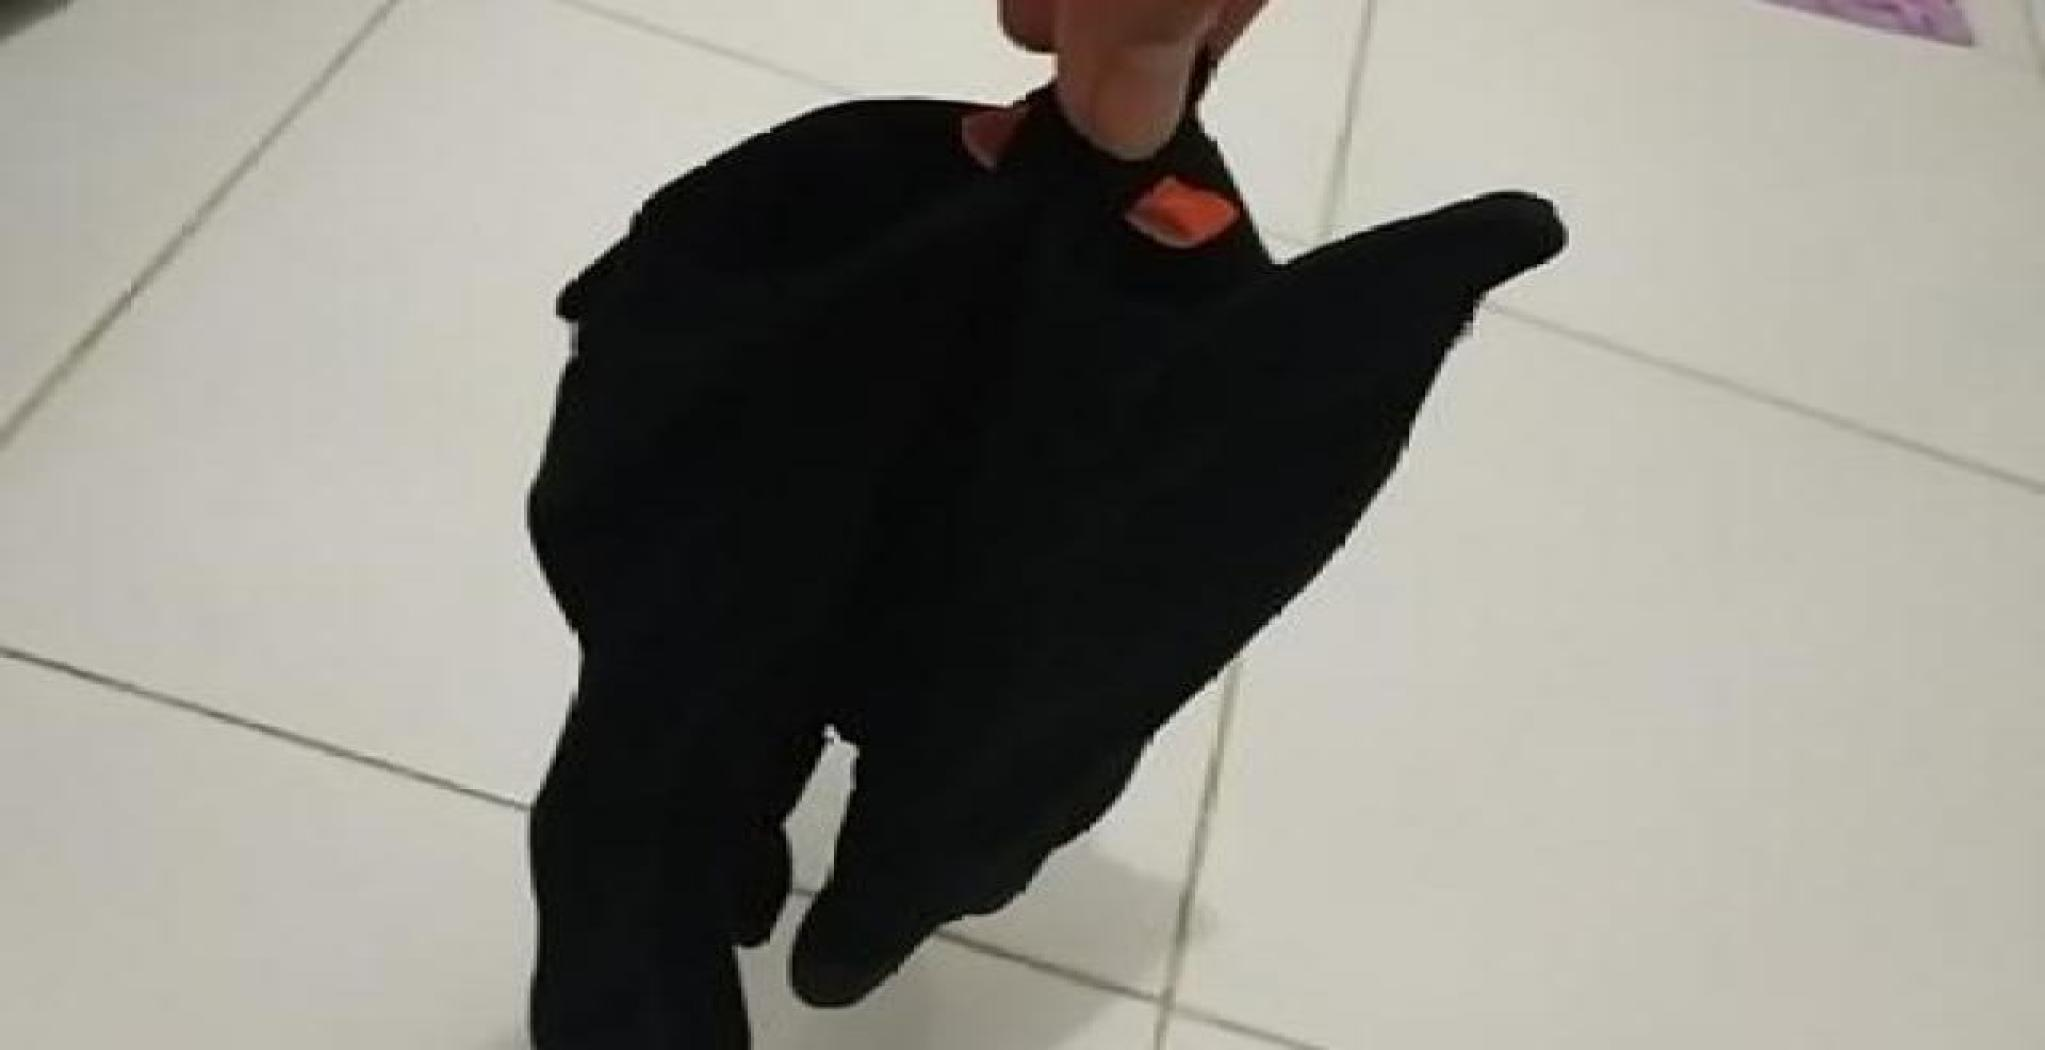gloved: (596, 88, 1631, 1050)
